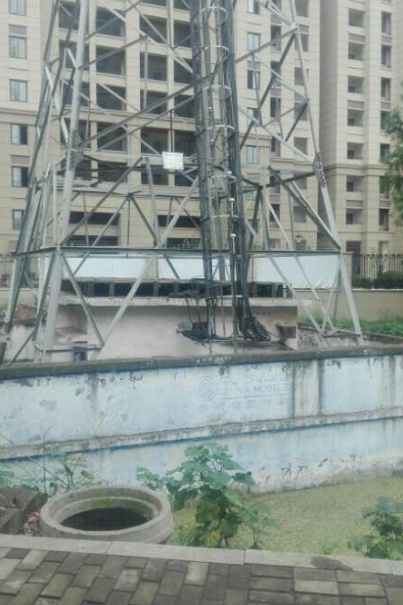well: (0, 1, 400, 367), (42, 483, 167, 532)
